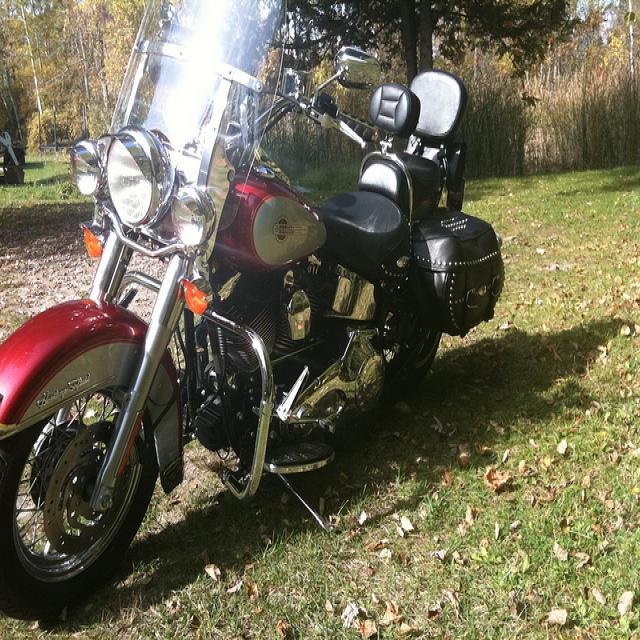motor: (0, 1, 505, 616)
